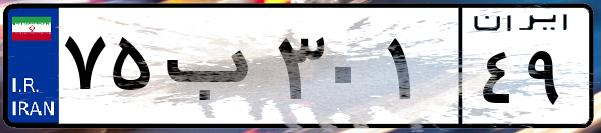0: (330, 28, 385, 110)
1: (385, 28, 445, 110)
3: (270, 28, 330, 110)
4: (475, 38, 525, 113)
5: (110, 28, 158, 98)
7: (57, 26, 110, 100)
9: (525, 38, 570, 115)
ب: (158, 20, 270, 120)
